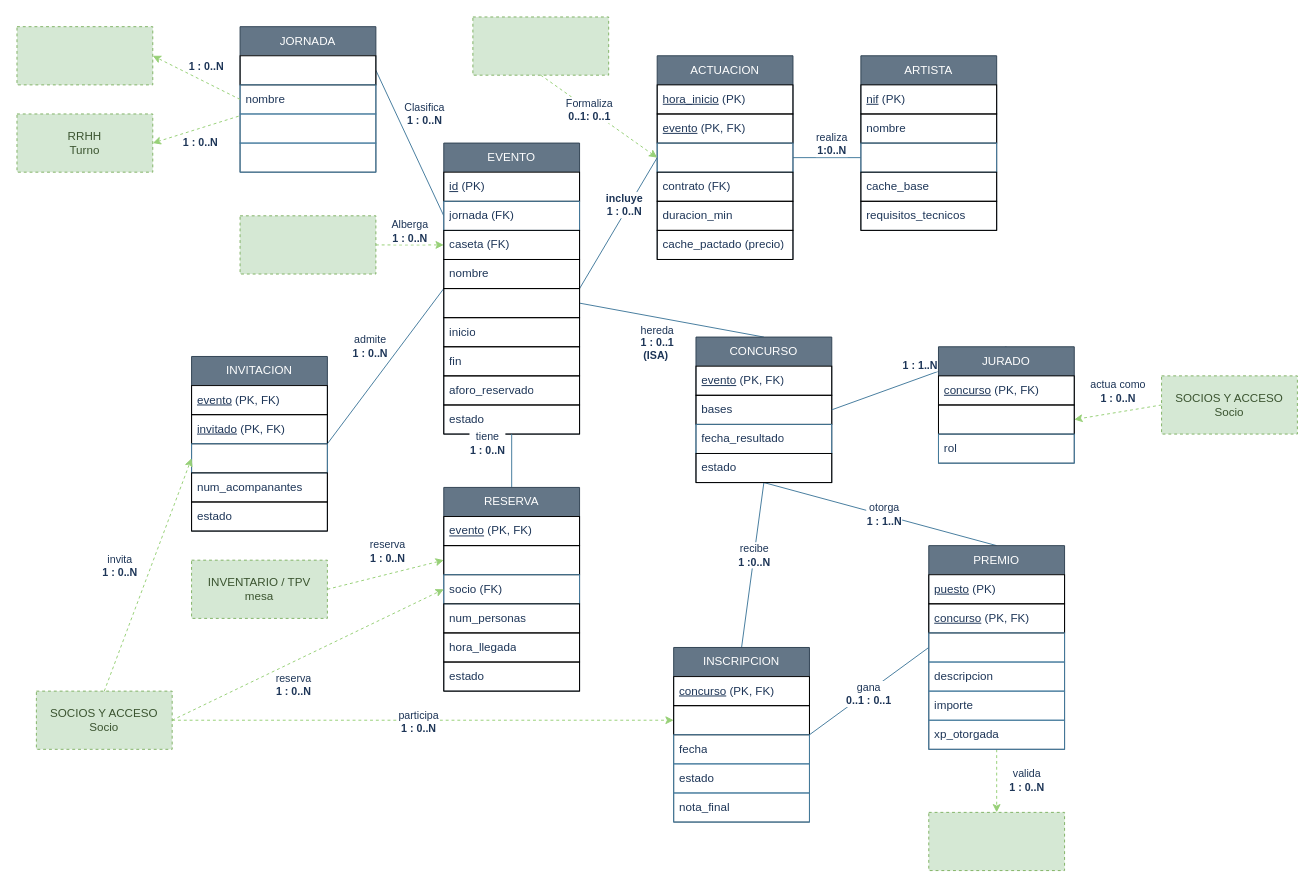
This 1314x888 diagram has some shape labels left out. The shapes that lost their labels are listed below. From the top down, each one's centre as x and y in pixels, then its label:
the point at 84,55: SOCIOS Y ACCESO Control de aforo
the point at 540,45: CONTRATOS Y PROVEEDORES contrato
the point at 307,70: fecha_inicio (PK)
the point at 307,128: apertura
the point at 307,157: cierre
the point at 724,157: artista (PK, FK)
the point at 928,157: disciplina
the point at 307,244: INFRAESTRUCTURA (Caseta)
the point at 511,303: tipo
the point at 1006,419: persona (PK, FK)
the point at 259,458: socio_anfitrion (FK)
the point at 511,560: mesa (PK, FK)
the point at 996,647: socio_ganador (FK)
the point at 741,720: socio (PK, FK)
the point at 996,841: SOCIOS Y ACCESO Registro de acceso
